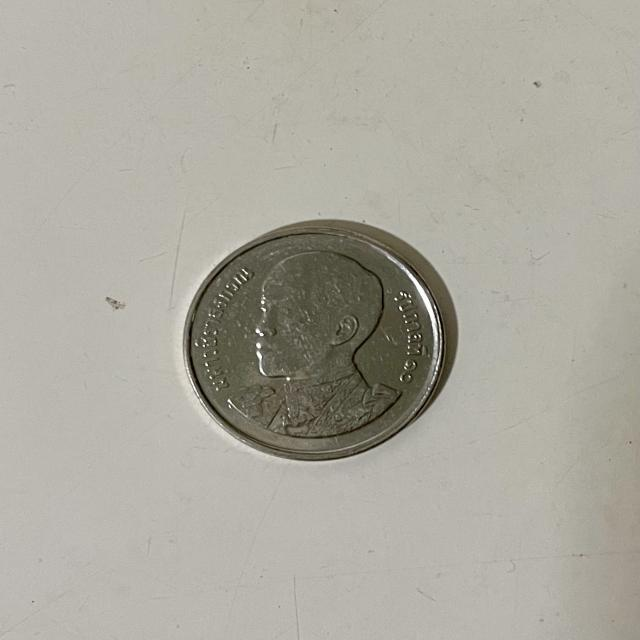1 Bath: (178, 224, 458, 468)
